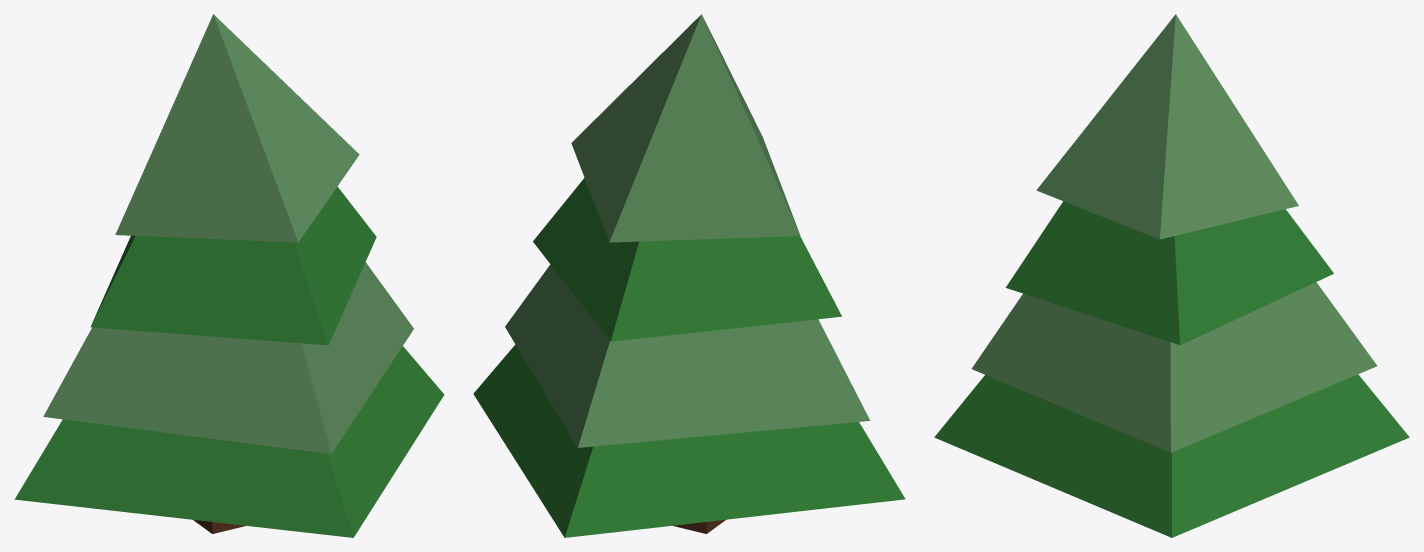
The model's file is pinetree.fbx.
3 views of the same model, side by side, from view 1: azimuth 30°, elevation 25°; view 2: azimuth 150°, elevation 25°; view 3: azimuth 270°, elevation 25° (orthographic). The views are drawn at different scales.
Visible parts, largest first — view 1: Cube.036; view 2: Cube.036; view 3: Cube.036.
Part boxes in pixels (<box>): Cube.036: <box>14,14,444,537</box>; Cube.036: <box>473,14,905,537</box>; Cube.036: <box>934,14,1409,537</box>.
Size of the model in its own units: 181 by 199 by 181.
